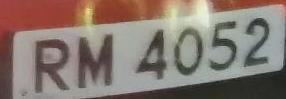0: (168, 20, 208, 79)
2: (239, 13, 276, 70)
4: (133, 23, 173, 88)
5: (205, 15, 242, 74)
M: (71, 31, 119, 94)
R: (23, 31, 80, 99)
